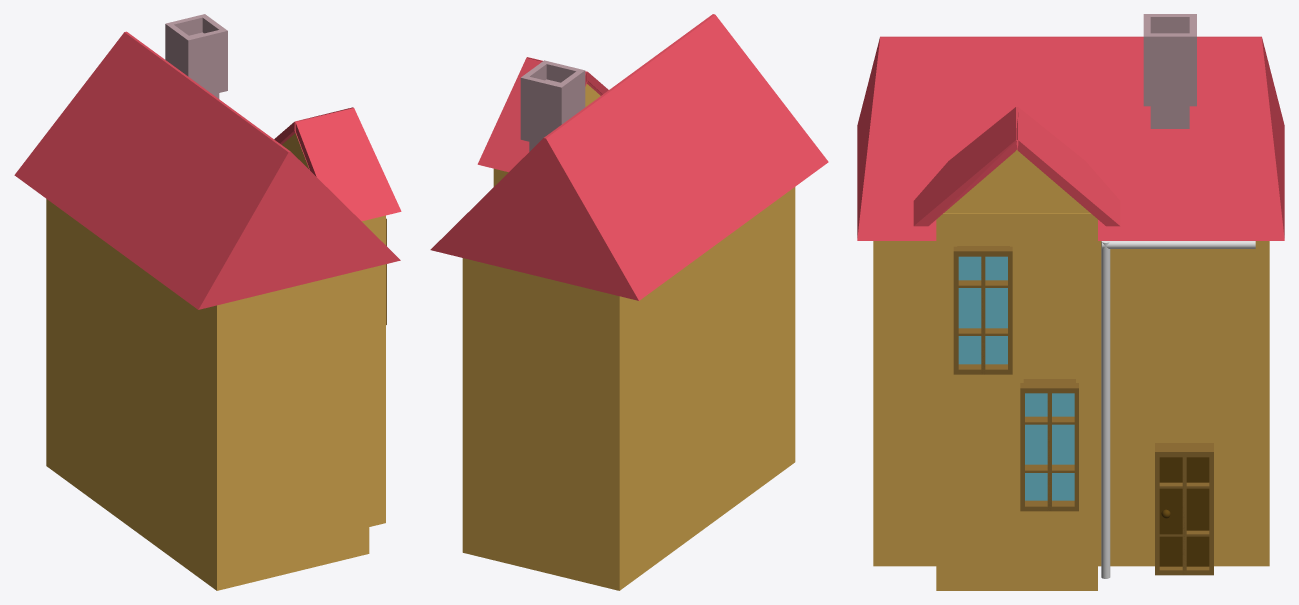
The model's file is house.fbx.
The picture shows the model from 3 angles, left to right: view 1: azimuth 30°, elevation 25°; view 2: azimuth 150°, elevation 25°; view 3: azimuth 270°, elevation 25°; orthographic projection. The views are drawn at different scales.
Parts seen in each view (by area): view 1: Cube, Cube.004, Cube.003, Cube.001, Cube.005; view 2: Cube, Cube.004, Cube.005, Cube.003; view 3: Cube, Cube.004, Cube.001, Cube.003, Cube.005, WindowPanel.002, Cube.002, WindowPanel, WindowPanel.001, WindowFrame.001, WindowFrame, WindowFrame.002 (+2 smaller).
Boxes of the visible parts, bbox=[...] form: Cube: bbox=[46, 199, 369, 590]; Cube.004: bbox=[14, 31, 400, 309]; Cube.003: bbox=[274, 107, 401, 221]; Cube.001: bbox=[362, 215, 385, 526]; Cube.005: bbox=[165, 14, 227, 98]; Cube: bbox=[462, 187, 795, 590]; Cube.004: bbox=[430, 14, 828, 300]; Cube.005: bbox=[520, 60, 585, 151]; Cube.003: bbox=[477, 57, 608, 172]; Cube: bbox=[873, 241, 1269, 566]; Cube.004: bbox=[857, 36, 1284, 240]; Cube.001: bbox=[936, 213, 1097, 590]; Cube.003: bbox=[913, 107, 1120, 226]; Cube.005: bbox=[1143, 14, 1196, 128]; WindowPanel.002: bbox=[1159, 457, 1209, 566]; Cube.002: bbox=[943, 150, 1090, 213]; WindowPanel: bbox=[958, 256, 1007, 364]; WindowPanel.001: bbox=[1025, 393, 1074, 500]; WindowFrame.001: bbox=[1020, 379, 1078, 511]; WindowFrame: bbox=[953, 246, 1012, 374]; WindowFrame.002: bbox=[1155, 443, 1213, 575].
Size of the model in its own units: 1090 by 2003 by 1505.
